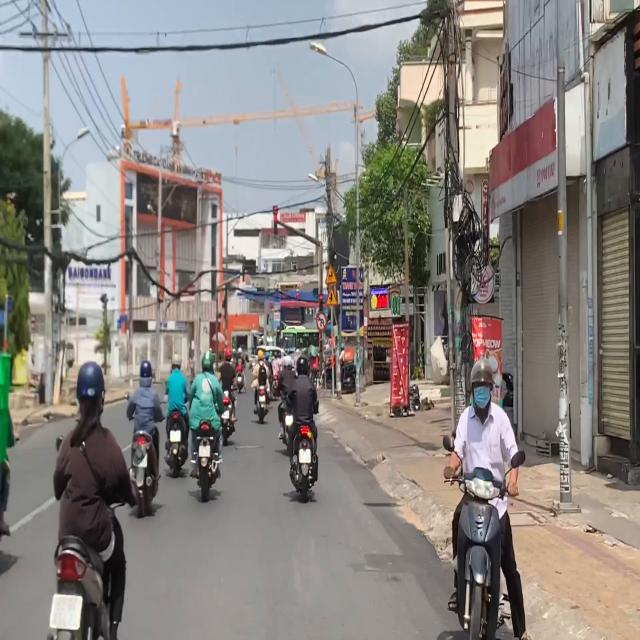Cam con lai: (316, 311, 327, 332)
Giao voi duong khong uu tien: (325, 287, 338, 307)
Nguy hiem: (325, 264, 337, 284)
